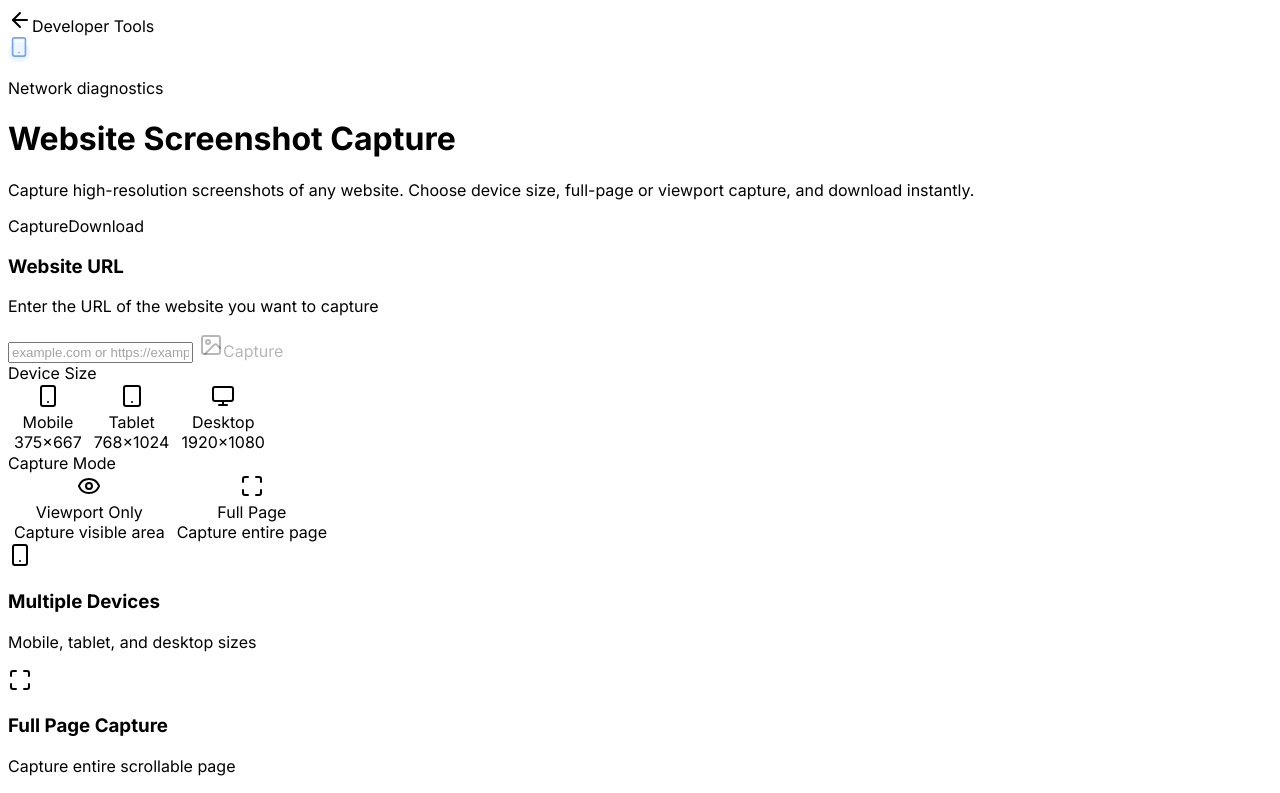
Test: Website Screenshot Tool - Component Tests › should enable capture button when URL is entered
Step 1. Type "example.com" into the field with placeholder "example.com or https://example.com" → (100, 353), box [8,342,193,363]
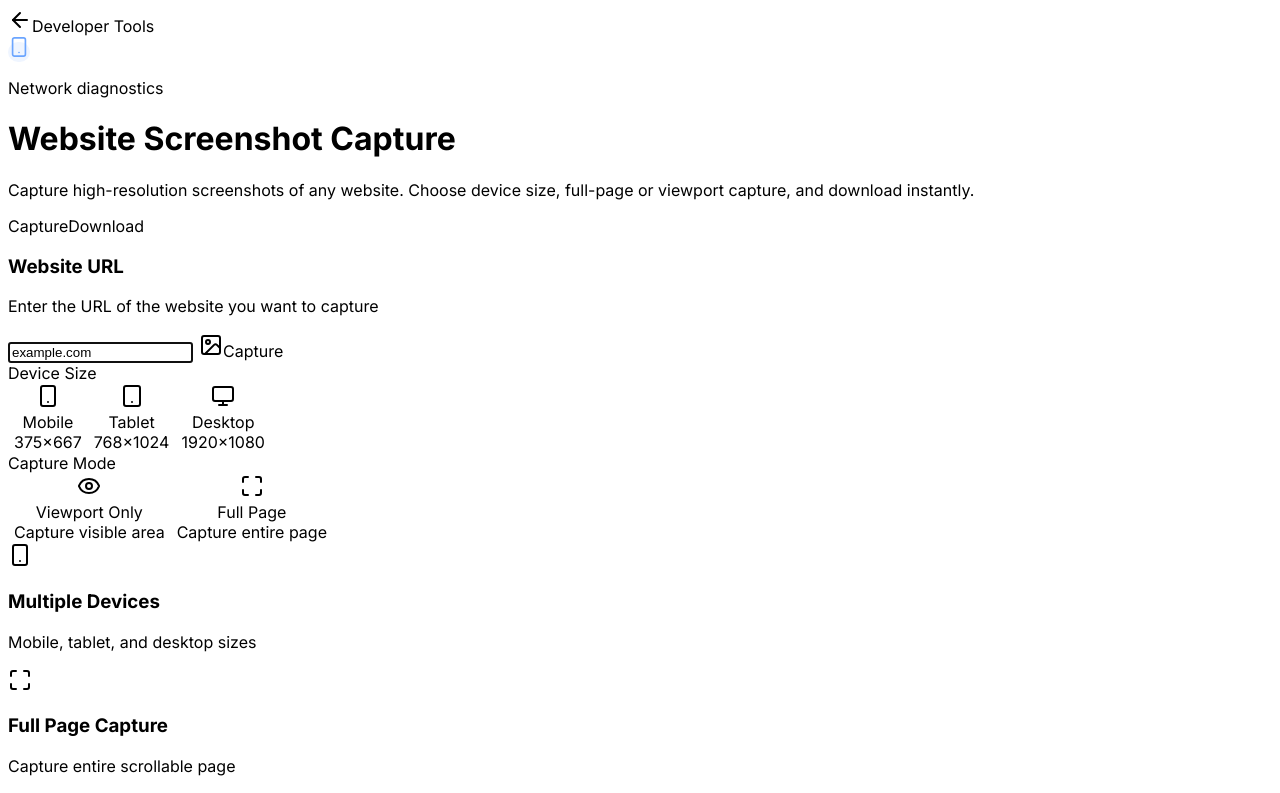
Expected: the button "Capture" is enabled, [193,332,289,362]
